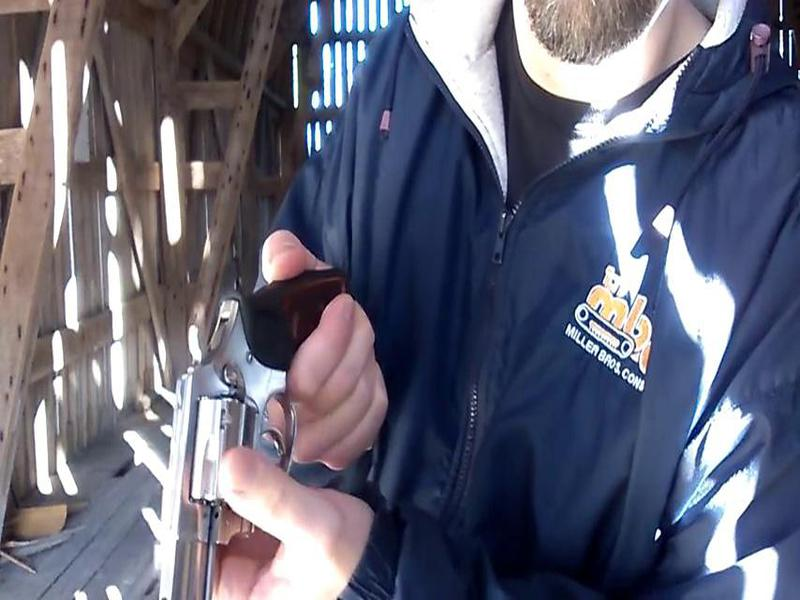Revolver: (151, 268, 329, 600)
